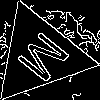M: (14, 30, 80, 91)
